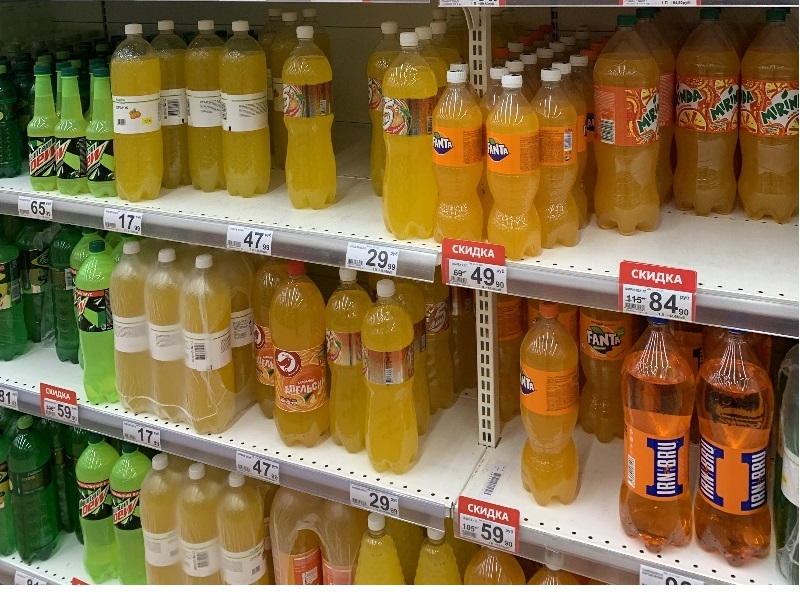lemonade: (617, 316, 700, 561), (698, 326, 776, 572), (668, 8, 754, 221), (590, 13, 665, 243), (510, 300, 589, 514), (371, 27, 441, 247), (481, 72, 553, 272), (738, 1, 800, 227), (263, 257, 334, 453), (355, 280, 423, 483), (276, 26, 345, 211), (106, 22, 169, 205), (422, 68, 489, 240), (216, 17, 277, 203)
